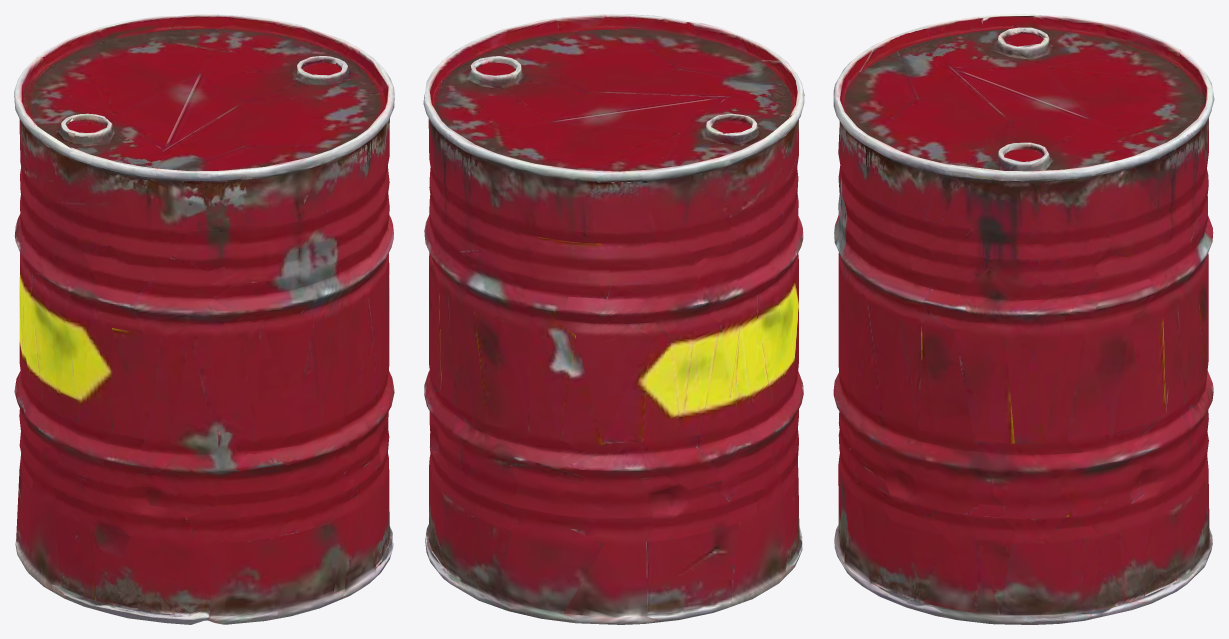
File: barrel_red.glb
3 views of the same model, side by side, from view 1: azimuth 30°, elevation 25°; view 2: azimuth 150°, elevation 25°; view 3: azimuth 270°, elevation 25° (orthographic).
Visible parts, largest first — view 1: Mesh_0; view 2: Mesh_0; view 3: Mesh_0.
Part boxes in pixels (bbox=[...]): Mesh_0: bbox=[14, 14, 394, 624]; Mesh_0: bbox=[423, 14, 804, 624]; Mesh_0: bbox=[833, 14, 1214, 624].
Bounding box in the file's own units: 1.45 × 1.9 × 1.45.
1 material, 1 textured.
